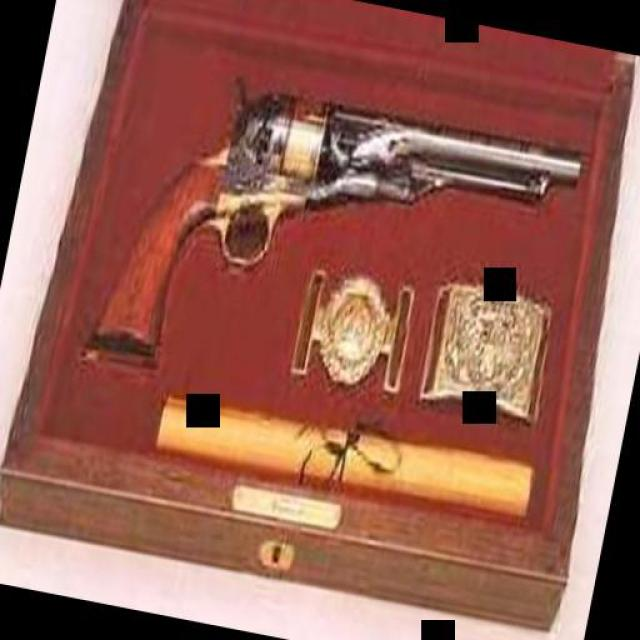gun: (81, 36, 594, 442)
